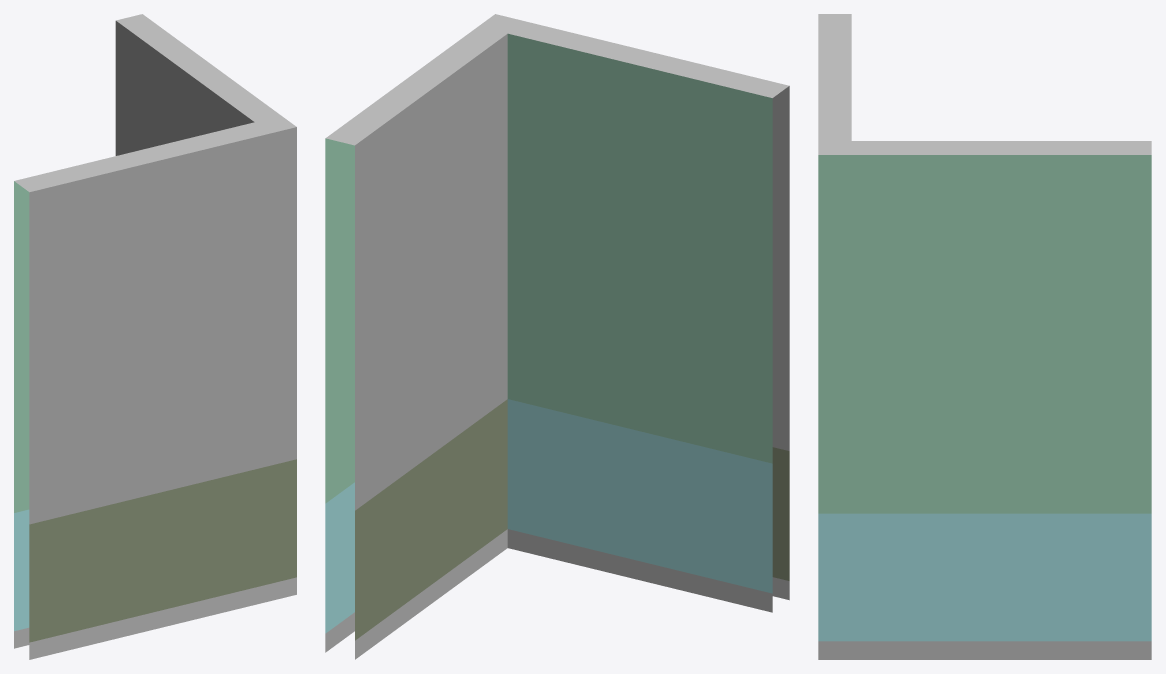
The model's file is SM_Wall_Corner_A_200.fbx.
3 views of the same model, side by side, from view 1: azimuth 30°, elevation 25°; view 2: azimuth 150°, elevation 25°; view 3: azimuth 270°, elevation 25° (orthographic). The views are drawn at different scales.
Parts seen in each view (by area): view 1: SM_Wall_Corner_A_200; view 2: SM_Wall_Corner_A_200; view 3: SM_Wall_Corner_A_200.
Part boxes in pixels (bbox=[...]): SM_Wall_Corner_A_200: bbox=[14, 14, 296, 659]; SM_Wall_Corner_A_200: bbox=[325, 14, 789, 659]; SM_Wall_Corner_A_200: bbox=[818, 14, 1151, 659].
Size of the model in its own units: 200 by 334 by 200.
